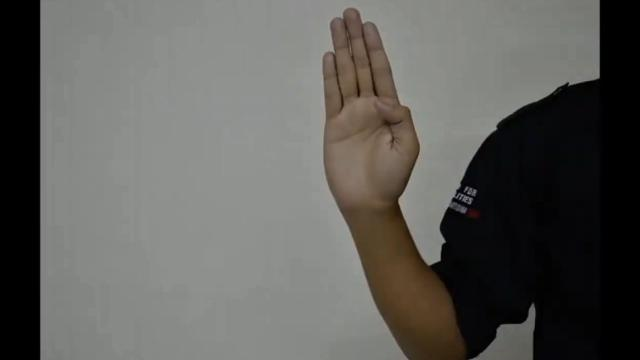B: (318, 6, 422, 209)
